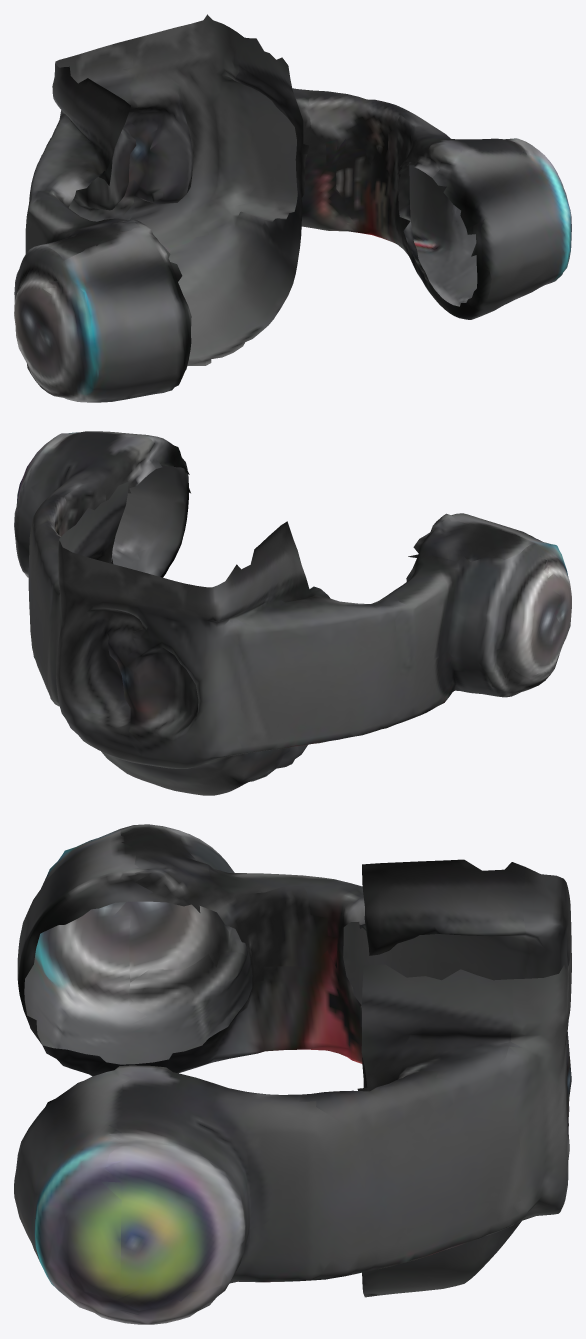
The model's file is mount.glb.
3 views of the same model, one above another, from view 1: azimuth 30°, elevation 25°; view 2: azimuth 150°, elevation 25°; view 3: azimuth 270°, elevation 25° (orthographic). The views are drawn at different scales.
Parts seen in each view (by area): view 1: Mesh_0; view 2: Mesh_0; view 3: Mesh_0.
Boxes of the visible parts, x1=… form: Mesh_0: x1=14, y1=14, x2=571, y2=402; Mesh_0: x1=14, y1=431, x2=571, y2=795; Mesh_0: x1=14, y1=824, x2=571, y2=1324.
Bounding box in the file's own units: 0.3733 × 0.1939 × 0.2602.
1 material, 1 textured.
